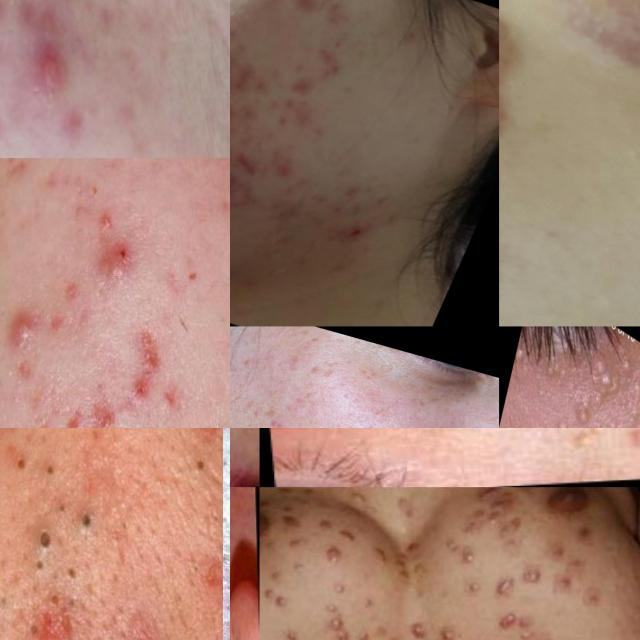acne_scars: (127, 328, 166, 408), (309, 46, 354, 86), (0, 158, 35, 189), (233, 158, 270, 184), (286, 78, 318, 100), (16, 406, 47, 428)
comedone: (26, 474, 104, 578), (0, 432, 64, 489), (201, 536, 223, 595), (178, 438, 204, 483), (51, 625, 103, 640), (223, 473, 230, 572), (222, 556, 230, 640), (0, 0, 20, 16), (230, 11, 239, 31)
keloid: (499, 0, 558, 190), (526, 0, 640, 92), (380, 539, 429, 584), (316, 526, 363, 571), (494, 564, 543, 598), (490, 606, 539, 640), (470, 487, 521, 516), (424, 619, 467, 640), (456, 544, 484, 569), (261, 585, 290, 609), (461, 577, 484, 602)
milium: (571, 327, 636, 428), (549, 428, 640, 462), (628, 361, 640, 425), (547, 412, 570, 428)
papule: (230, 42, 268, 109), (32, 44, 70, 102), (103, 233, 141, 285), (262, 146, 304, 183), (230, 162, 243, 203)
pustule: (0, 296, 57, 358)
